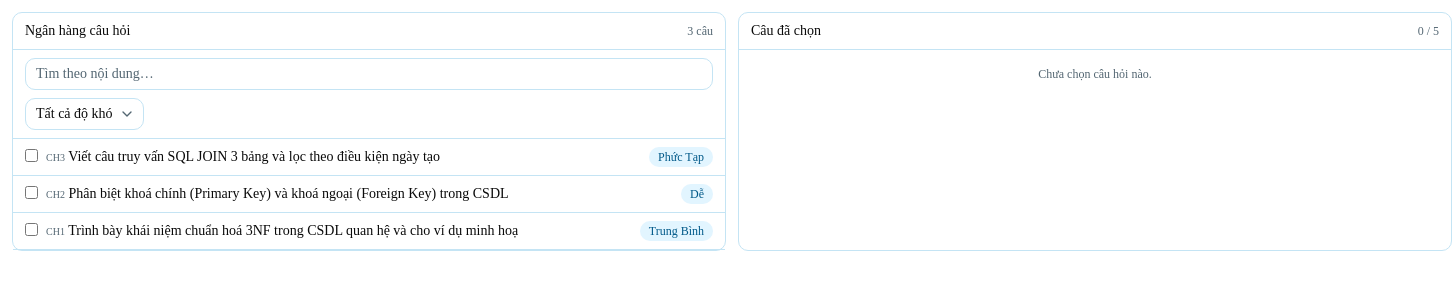
Scenario: QuestionPicker › loads bank for chosen subject and toggles questions
Check: the text "3NF" is shown, box [68,223,518,238]
Check: the text "khoá chính" is shown, box [68,186,508,201]
Click the checkbox named "Câu hỏi 3" at (32, 156), box [25,149,38,162]
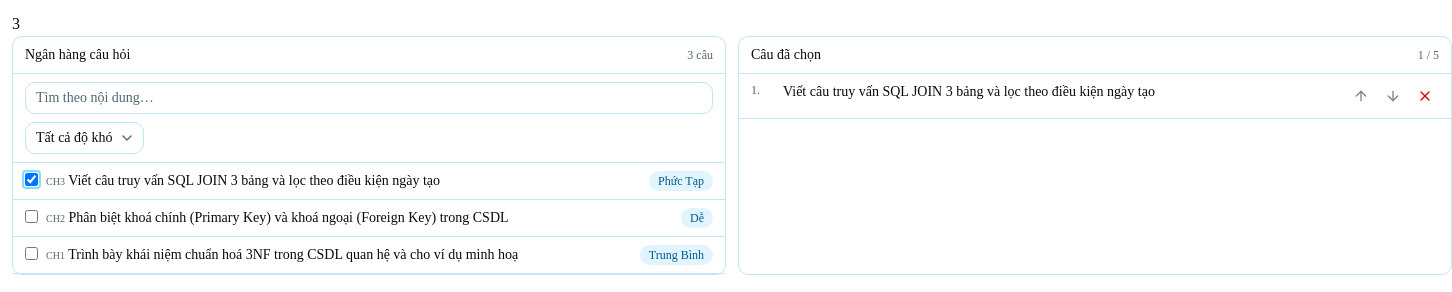
Click the checkbox named "Câu hỏi 2" at (32, 216), box [25,210,38,223]
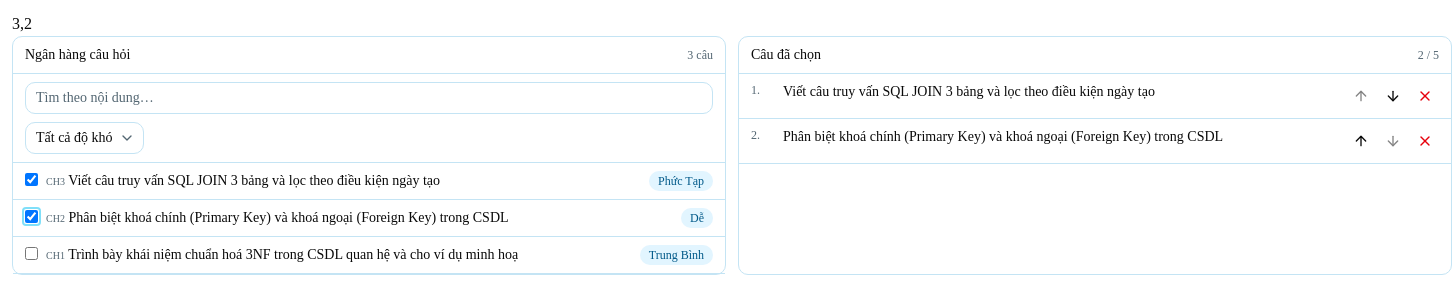
Check: the text with test id "chosen-count" reads "2 / 5", box [1418,47,1439,63]
